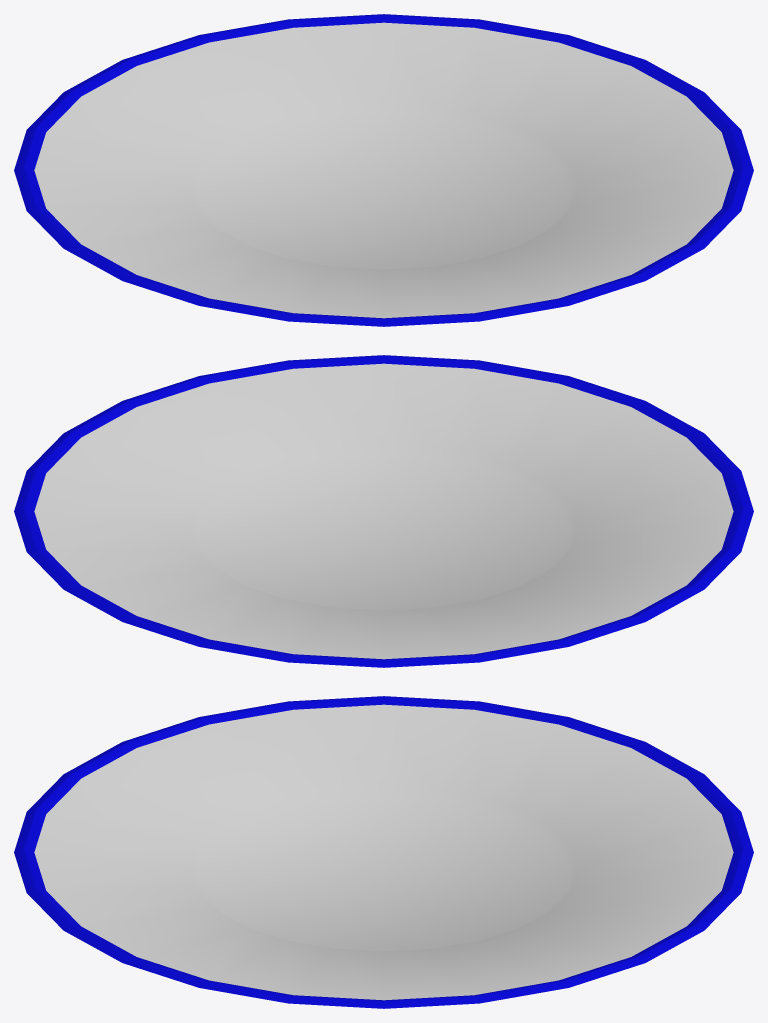
The model's file is plate.glb.
The picture shows the model from 3 angles, top to bottom: view 1: azimuth 30°, elevation 25°; view 2: azimuth 150°, elevation 25°; view 3: azimuth 270°, elevation 25°; orthographic projection.
Visible parts, largest first — view 1: plate; view 2: plate; view 3: plate.
Part boxes in pixels (x1,y1,x2,y2): plate: (14,14,753,326); plate: (14,355,753,667); plate: (14,696,753,1008).
Size of the model in its own units: 0.3963 by 0.017 by 0.3963.
